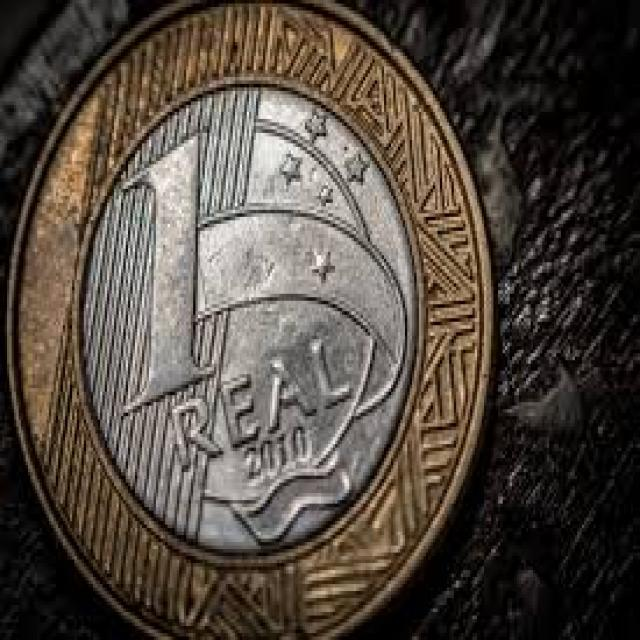1 real: (18, 4, 490, 639)
